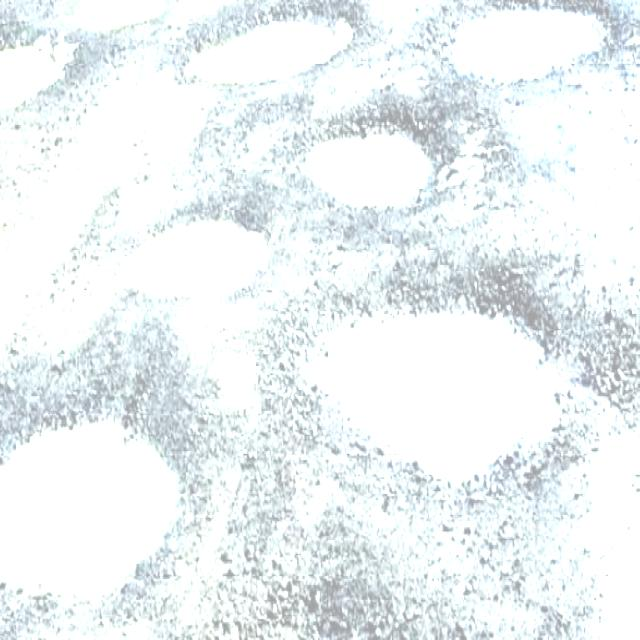Pothole: (0, 314, 225, 640), (279, 269, 576, 502), (171, 0, 391, 103), (299, 122, 459, 224), (110, 205, 274, 300)
